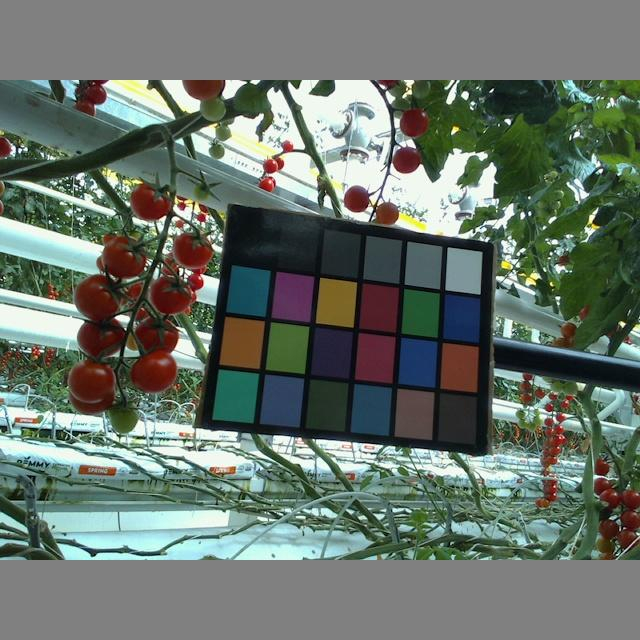green: (108, 406, 139, 433), (201, 94, 229, 123)
pink: (376, 201, 401, 226)
red: (74, 274, 121, 319), (67, 358, 115, 402), (129, 351, 177, 393), (76, 317, 124, 357), (102, 234, 146, 277), (134, 317, 177, 358), (128, 180, 173, 219), (171, 232, 213, 268), (149, 279, 193, 313), (398, 108, 429, 139), (392, 146, 421, 173), (344, 185, 370, 212)
